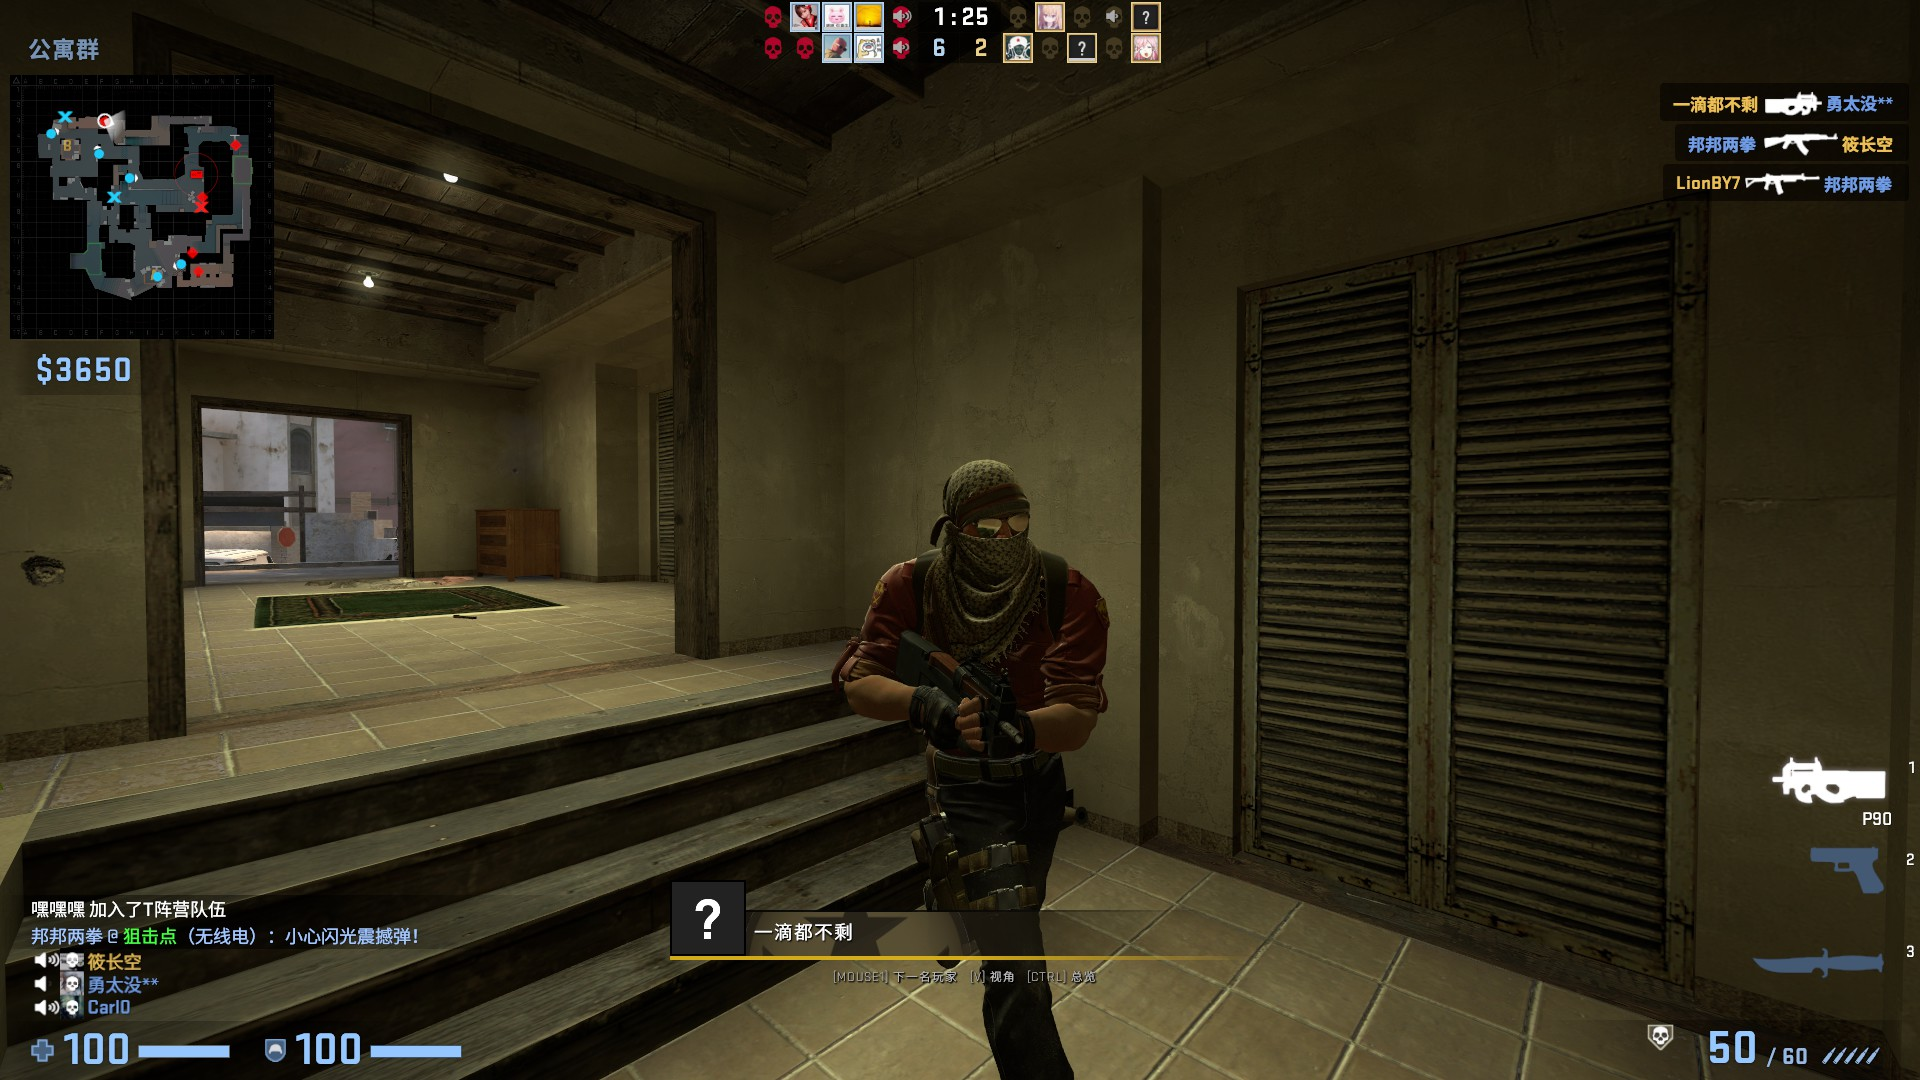head: (934, 454, 1041, 591)
